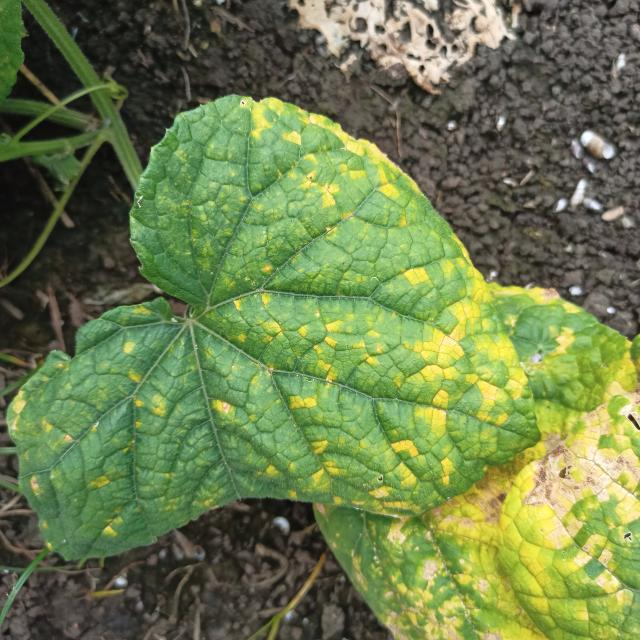disease_cucumber: (27, 113, 526, 549), (352, 298, 640, 640)
